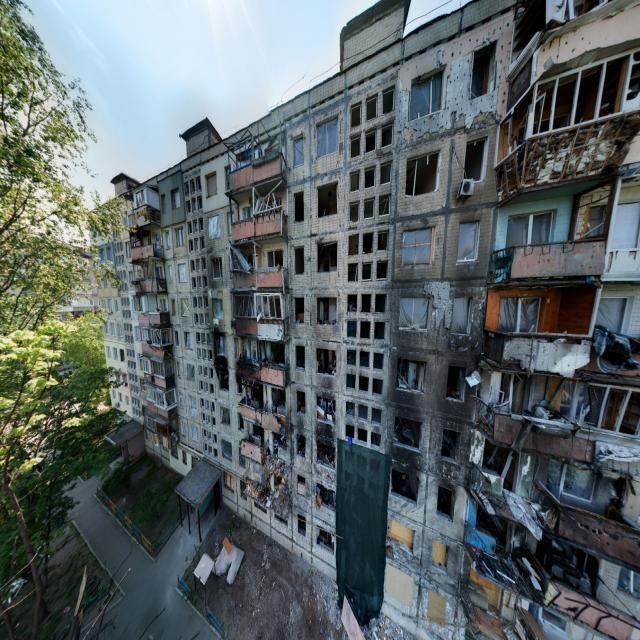broken_window: (404, 149, 440, 198), (400, 225, 435, 266), (398, 294, 430, 331)
building: (75, 0, 638, 637)
